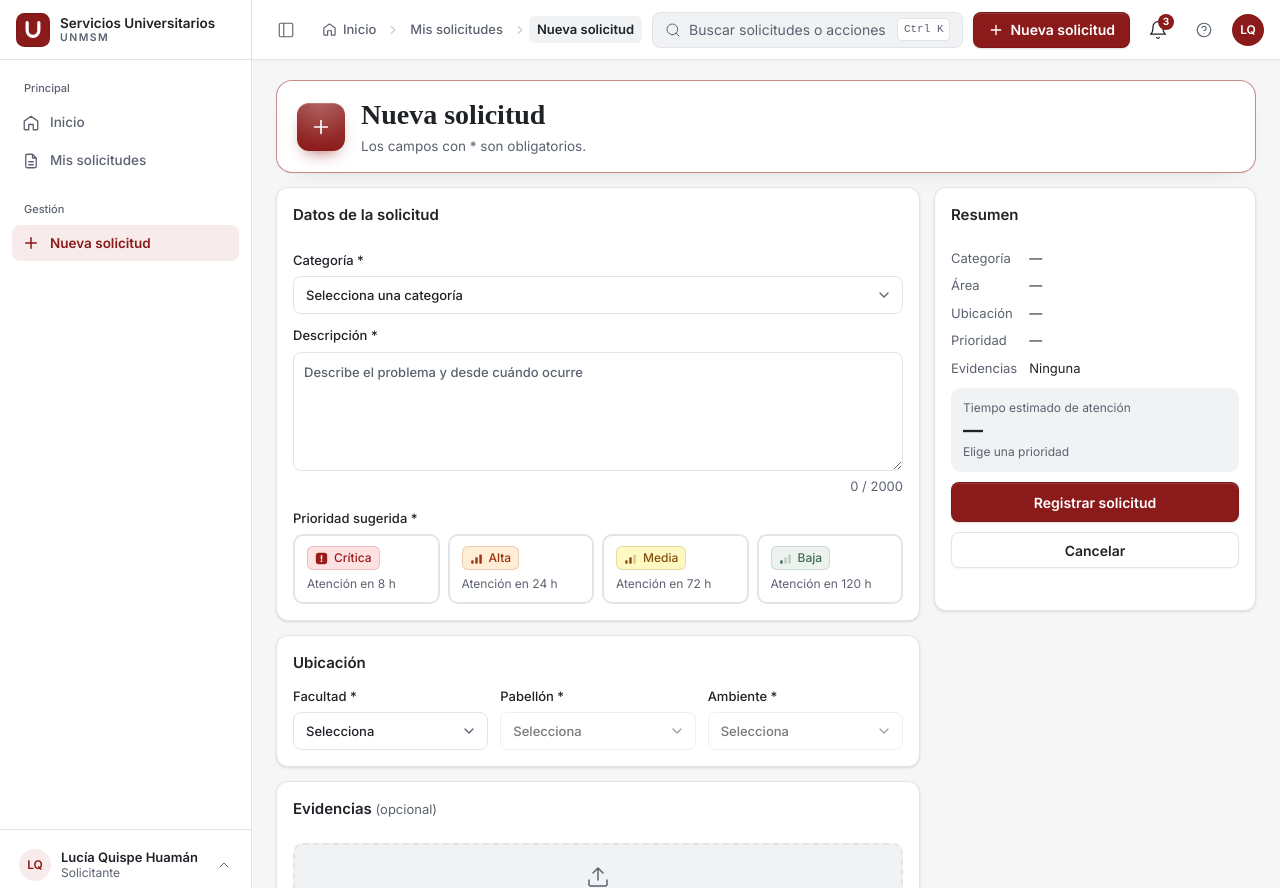
Scenario: Nueva solicitud › el área responsable sale de la categoría elegida
Select "Red e internet" in the dropdown labelled "Categoría *": (598, 295) [293,276,903,314]
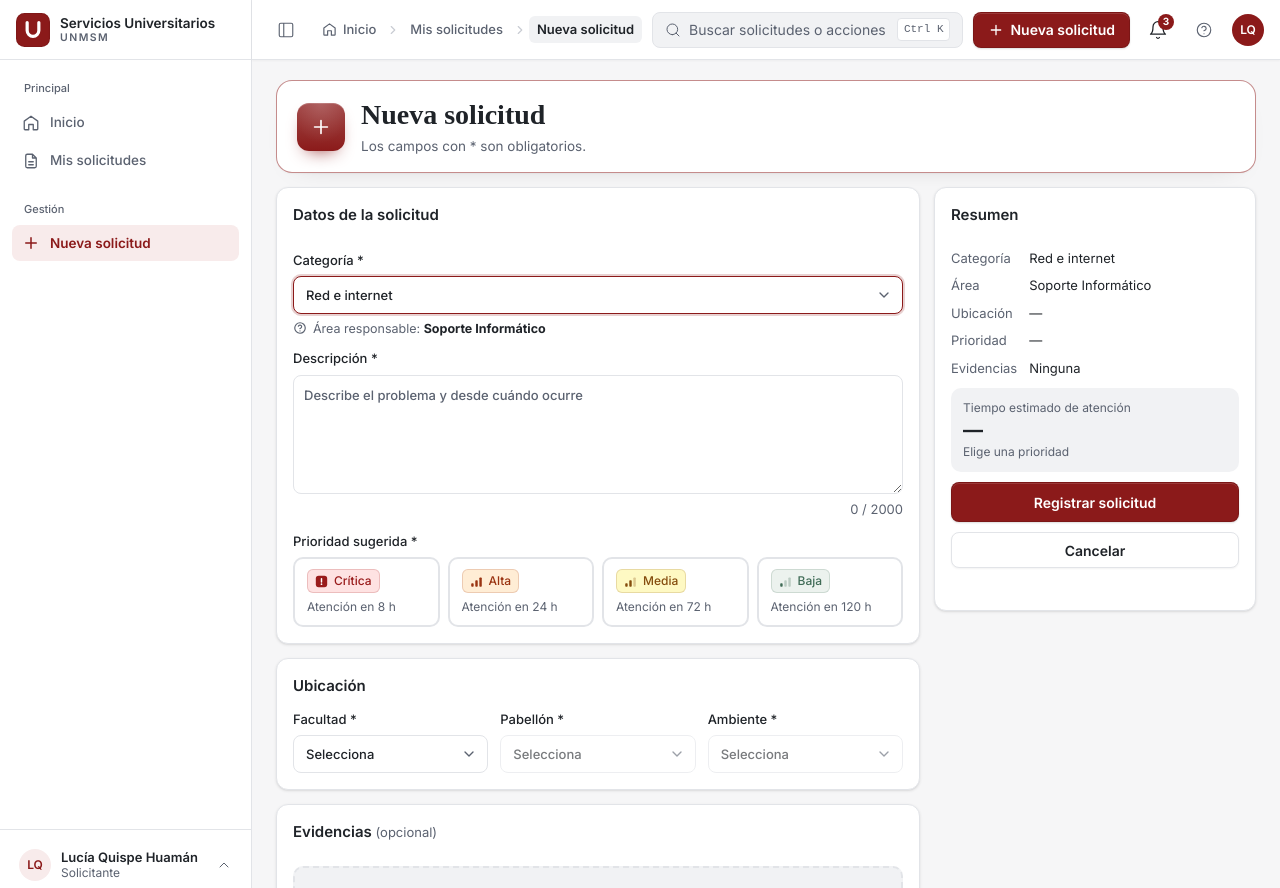
Check: the text "Área responsable: Soporte Informático" is shown, box [313,320,546,338]
